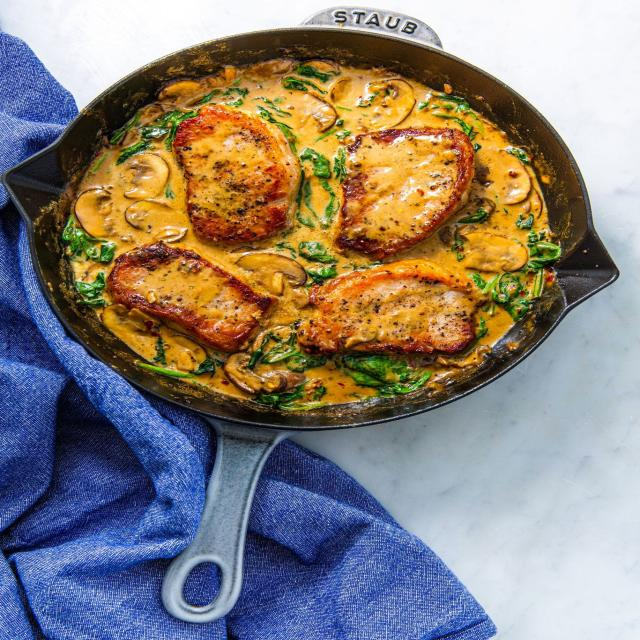carne de cerdo: (326, 118, 487, 264), (164, 94, 317, 246), (293, 267, 492, 364), (101, 241, 276, 347)
